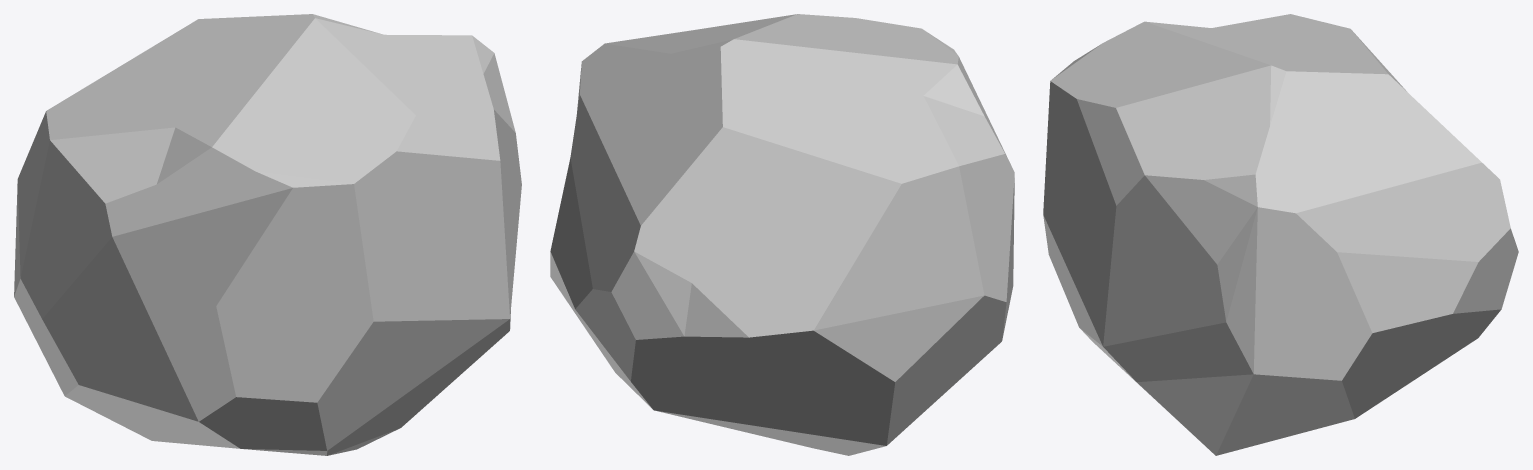
File: Wh_Rock_Small_01.fbx
3 views of the same model, side by side, from view 1: azimuth 30°, elevation 25°; view 2: azimuth 150°, elevation 25°; view 3: azimuth 270°, elevation 25° (orthographic). The views are drawn at different scales.
Visible parts, largest first — view 1: LowPolyRock.015; view 2: LowPolyRock.015; view 3: LowPolyRock.015.
Boxes of the visible parts, <box> form: LowPolyRock.015: <box>14,14,521,455</box>; LowPolyRock.015: <box>550,14,1014,455</box>; LowPolyRock.015: <box>1043,14,1518,455</box>.
Size of the model in its own units: 521 by 422 by 497.
